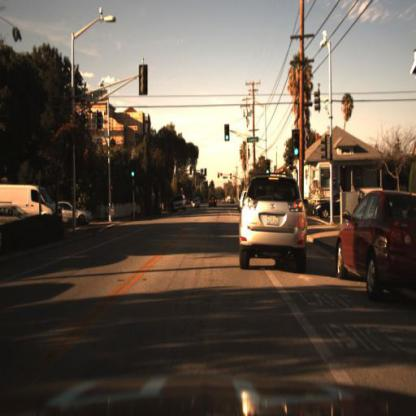car: (323, 172, 416, 309), (239, 174, 307, 272), (1, 182, 65, 230), (60, 202, 95, 227), (174, 191, 189, 212), (207, 193, 220, 211)
trafficLight-Green: (291, 128, 302, 159), (224, 123, 232, 143), (127, 159, 133, 184), (127, 166, 135, 182), (293, 141, 300, 159), (224, 132, 232, 145), (266, 159, 271, 177)
